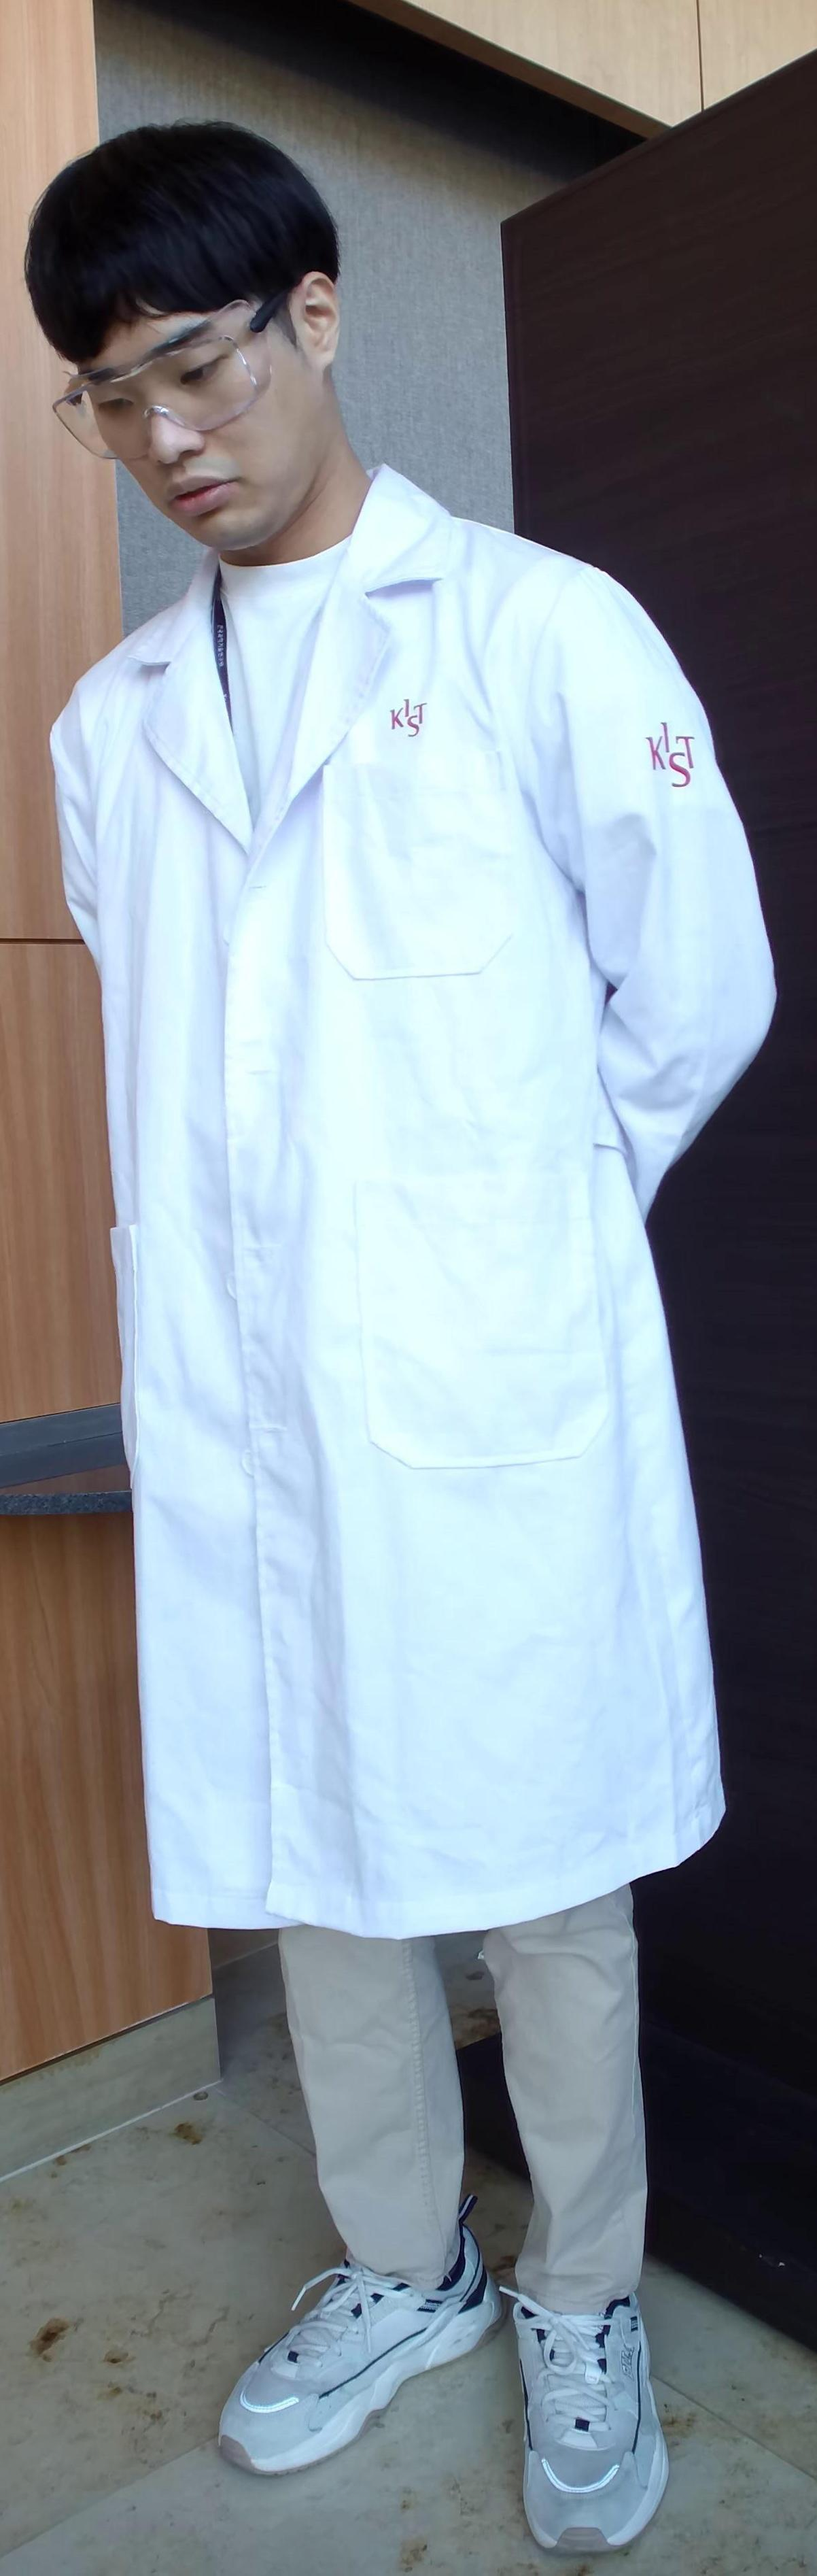lab_coat: (36, 593, 774, 1962)
